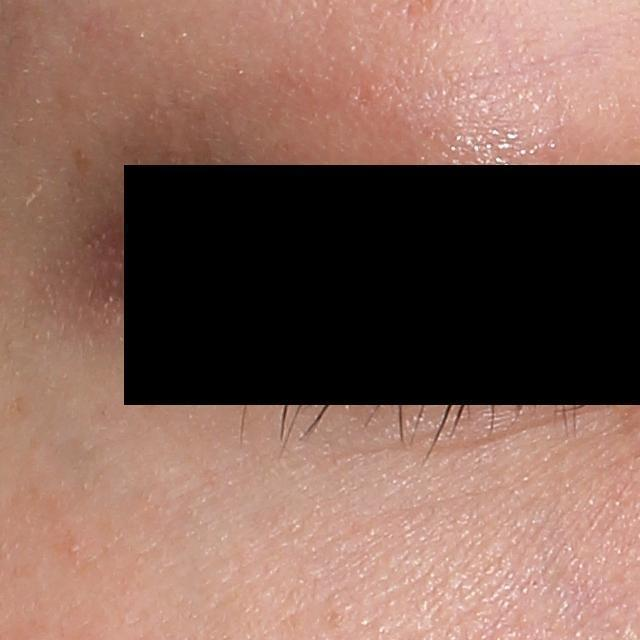comedo: (66, 541, 80, 555)
melasma: (73, 149, 97, 181)
